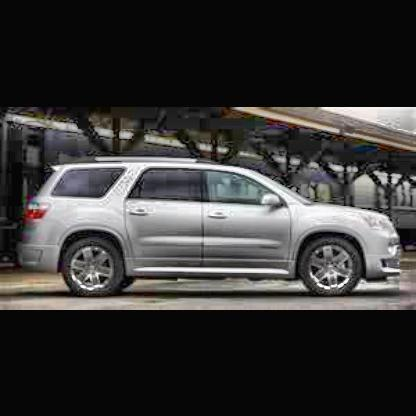GMC Acadia SUV 2012: (21, 153, 400, 306)
